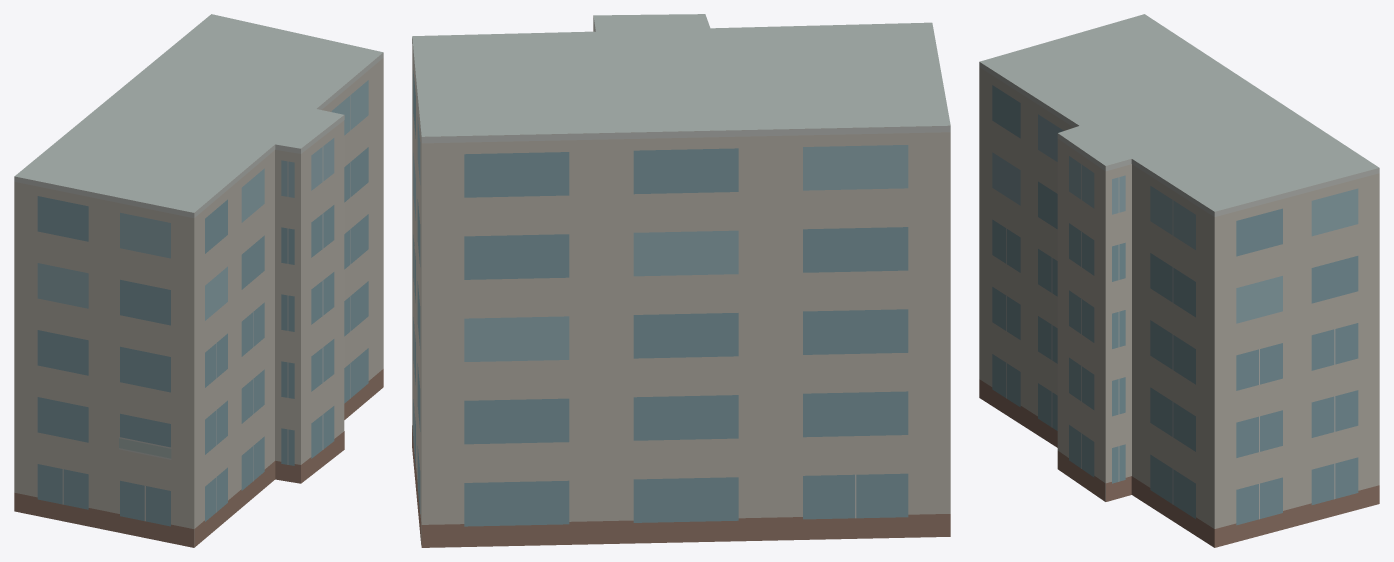
File: survey-upis-32918679.glb
The picture shows the model from 3 angles, left to right: view 1: azimuth 30°, elevation 25°; view 2: azimuth 150°, elevation 25°; view 3: azimuth 270°, elevation 25°; orthographic projection. The views are drawn at different scales.
Parts seen in each view (by area): view 1: survey-upis-32918679.tmp; view 2: survey-upis-32918679.tmp; view 3: survey-upis-32918679.tmp.
Part boxes in pixels (x1=…): survey-upis-32918679.tmp: x1=14, y1=14, x2=383, y2=547; survey-upis-32918679.tmp: x1=412, y1=14, x2=950, y2=547; survey-upis-32918679.tmp: x1=979, y1=14, x2=1379, y2=547.
Size of the model in its own units: 19.32 by 15.3 by 16.53.
